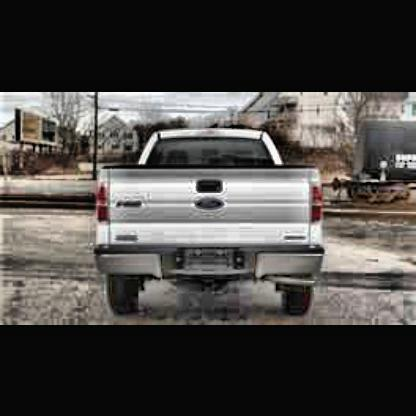Ford F-150 Regular Cab 2012: (97, 130, 325, 319)
